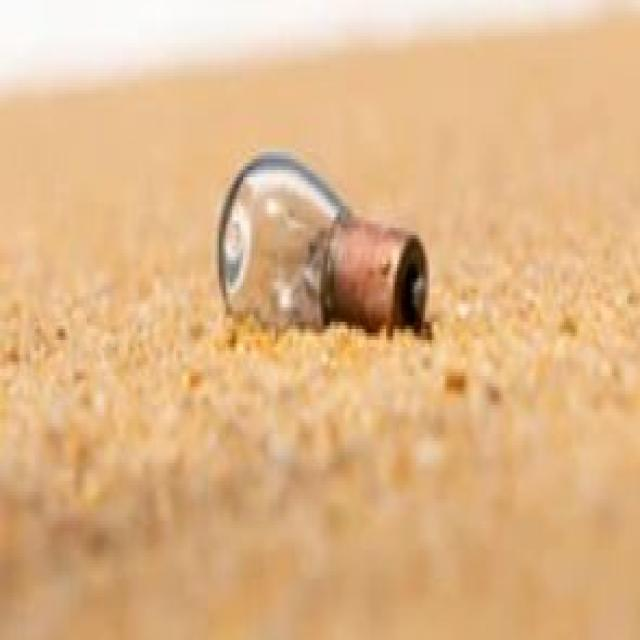electronic: (215, 145, 430, 340)
